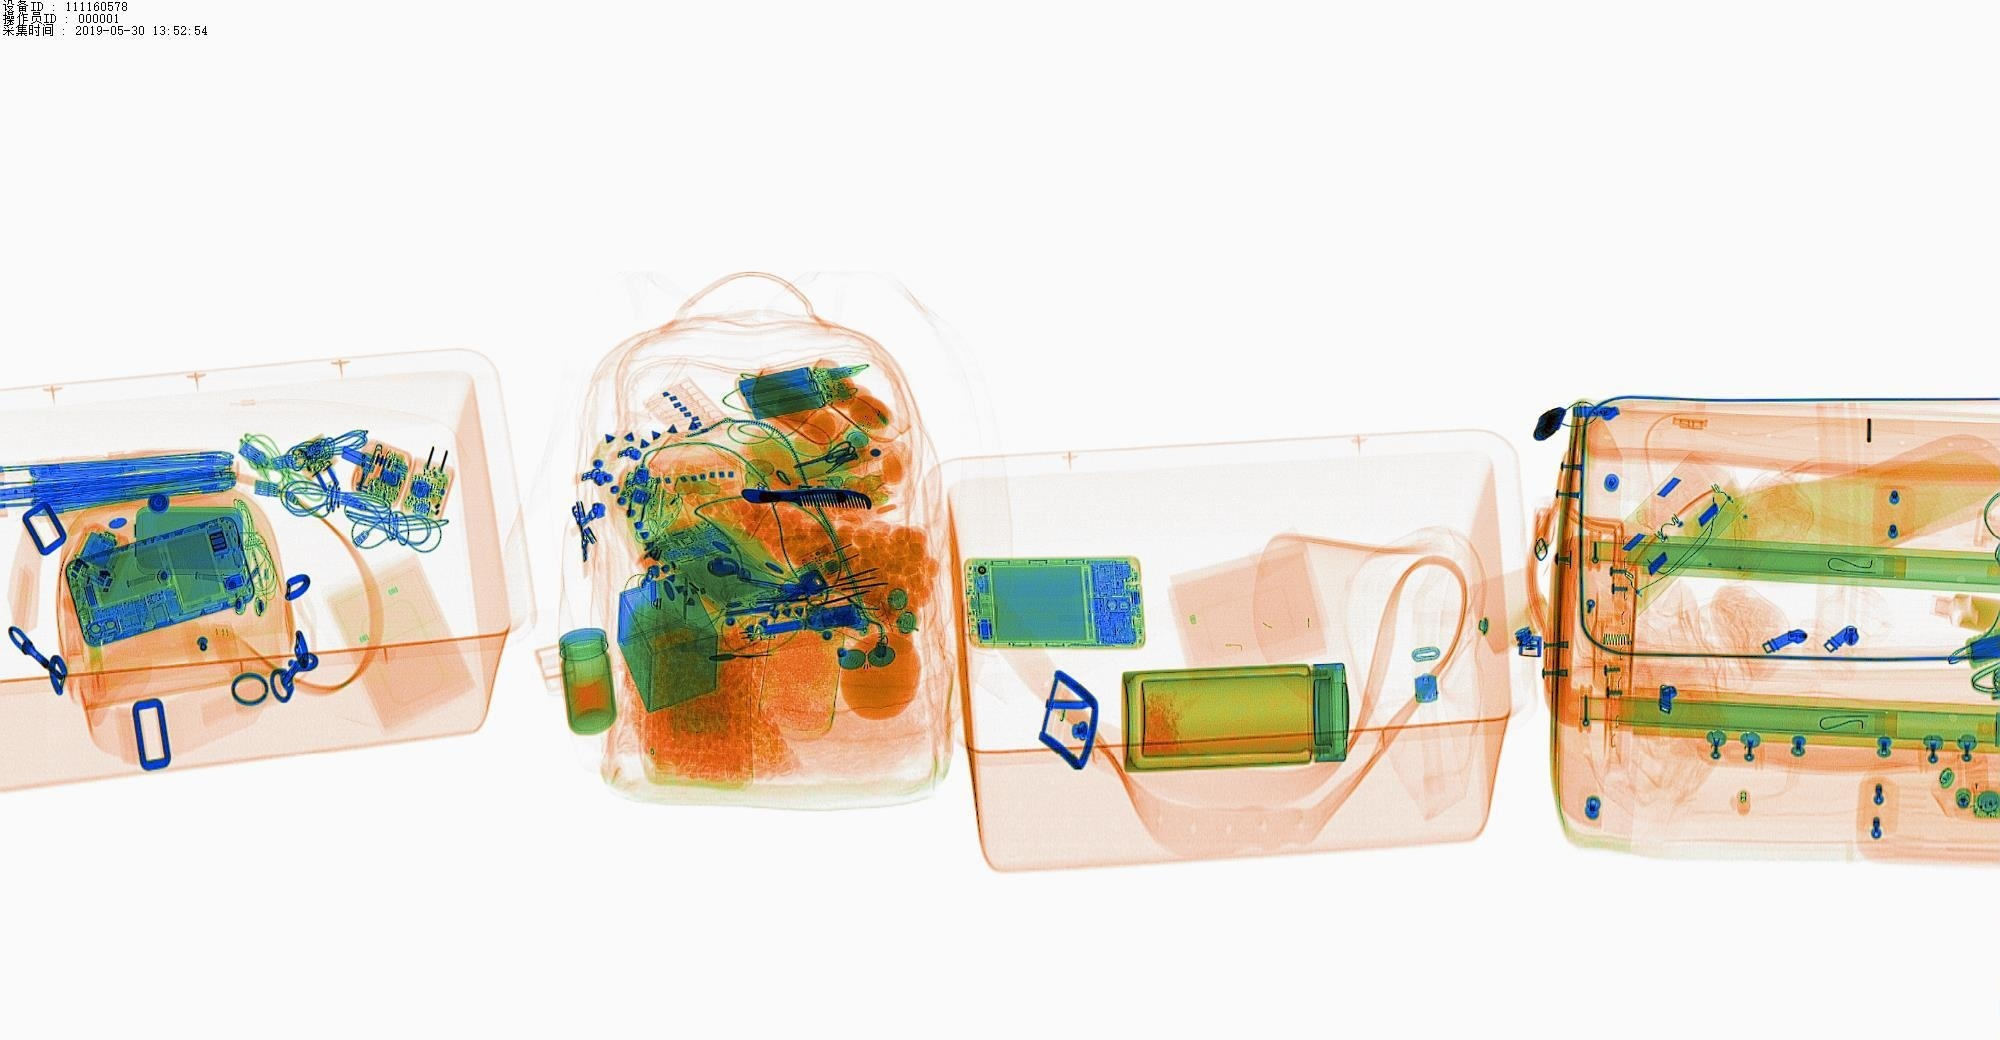NonmetallicFire: (758, 460, 858, 504)
